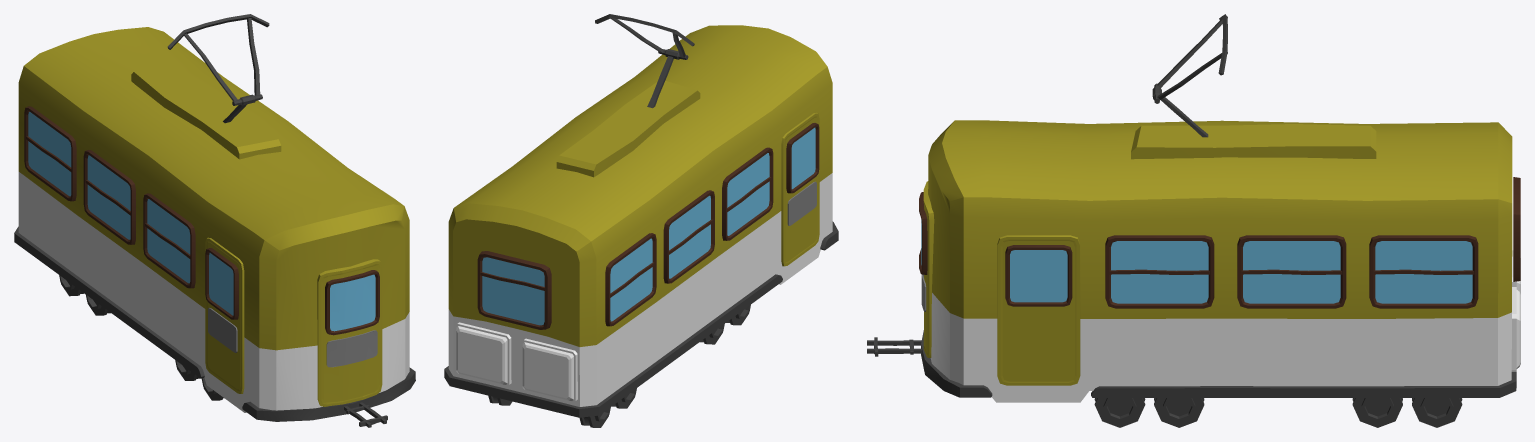
File: SM_trainwagon_02.fbx
The picture shows the model from 3 angles, left to right: view 1: azimuth 30°, elevation 25°; view 2: azimuth 150°, elevation 25°; view 3: azimuth 270°, elevation 25°; orthographic projection. The views are drawn at different scales.
Parts seen in each view (by area): view 1: Box193; view 2: Box193; view 3: Box193.
Boxes of the visible parts, bbox=[...] form: Box193: bbox=[14, 14, 415, 427]; Box193: bbox=[444, 14, 838, 427]; Box193: bbox=[867, 14, 1520, 427].
Size of the model in its own units: 105 by 205 by 329.
